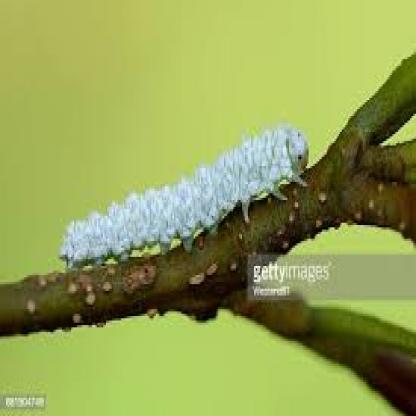sawfly: (57, 120, 318, 266)
